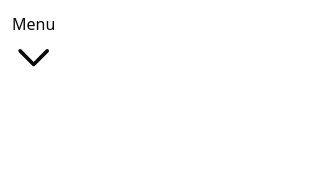
Test: HeaderNavItem › with dropdown › closes dropdown on Escape
This screenshot has width=332, height=172.
# Open the dropdown
Click the button "Menu" at (34, 46), box [12,12,55,79]
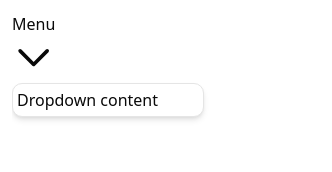
Result: the menu is shown at [12,83,204,117]
# Press Escape
Press Escape
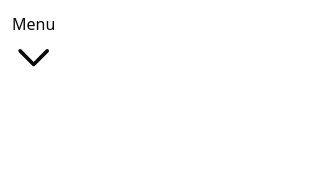
Result: the menu is gone
